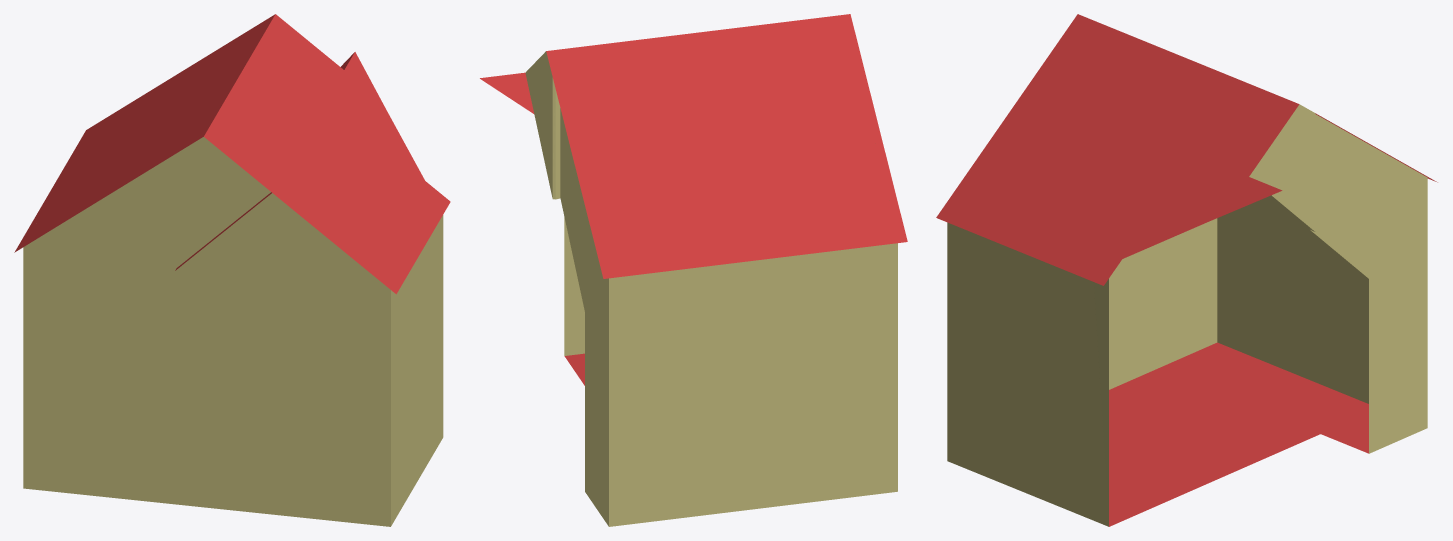
3 renders of one model, left to right at view 1: azimuth 30°, elevation 25°; view 2: azimuth 150°, elevation 25°; view 3: azimuth 270°, elevation 25°, orthographic. The views are drawn at different scales.
Bounding box in the file's own units: 14.47 × 16.05 × 13.56.
